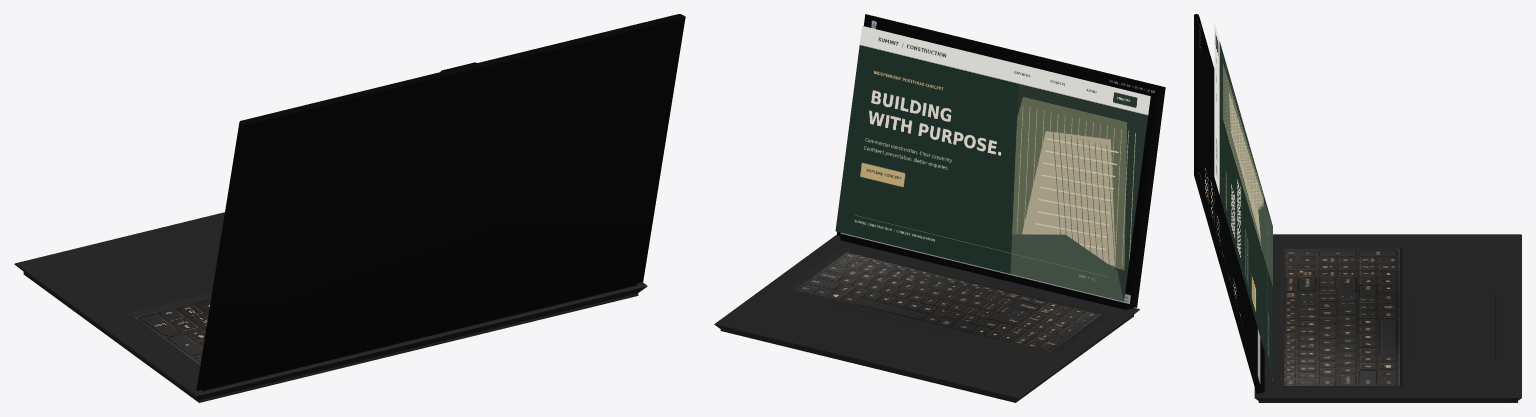
The model's file is khizar-laptop-summit.glb.
3 renders of one model, left to right at view 1: azimuth 30°, elevation 25°; view 2: azimuth 150°, elevation 25°; view 3: azimuth 270°, elevation 25°, orthographic. The views are drawn at different scales.
Visible parts, largest first — view 1: Cube.001_1, Cube_0; view 2: SummitScreenFront, Cube_0, Cube.001_1; view 3: Cube_0, SummitScreenFront, Cube.001_1.
Boxes of the visible parts, bbox=[...] form: Cube.001_1: bbox=[196, 14, 685, 391]; Cube_0: bbox=[14, 212, 647, 402]; SummitScreenFront: bbox=[835, 26, 1150, 301]; Cube_0: bbox=[714, 235, 1139, 402]; Cube.001_1: bbox=[836, 14, 1165, 309]; Cube_0: bbox=[1254, 234, 1521, 402]; SummitScreenFront: bbox=[1214, 23, 1272, 380]; Cube.001_1: bbox=[1194, 14, 1264, 394].
Bounding box in the file's own units: 1.38 × 0.9102 × 1.17.
Materials: 2 (2 with a texture image).
